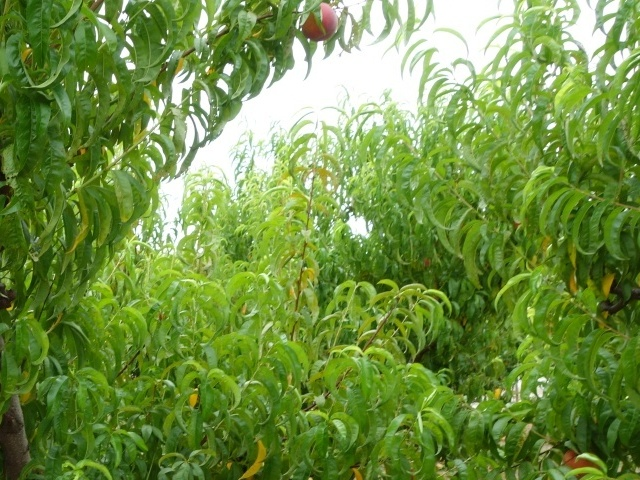peach: (298, 2, 342, 41), (559, 446, 597, 479)
